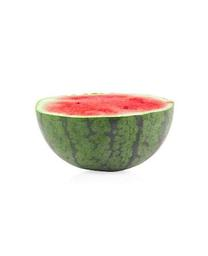watermelon: (33, 95, 176, 175)
